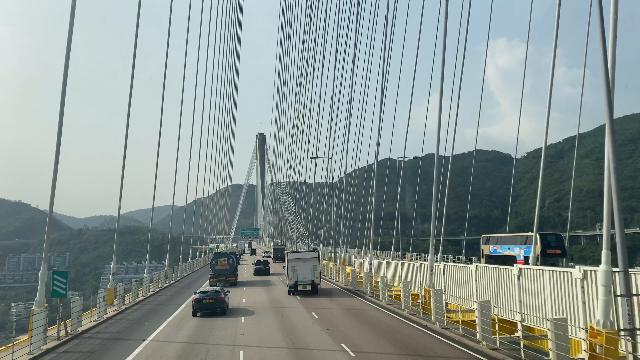bus: (482, 229, 563, 280)
car: (189, 286, 232, 317), (251, 257, 272, 278), (262, 250, 272, 257), (250, 248, 257, 257)
truck: (283, 251, 321, 298), (208, 251, 242, 287), (270, 243, 288, 263), (237, 240, 246, 254)
